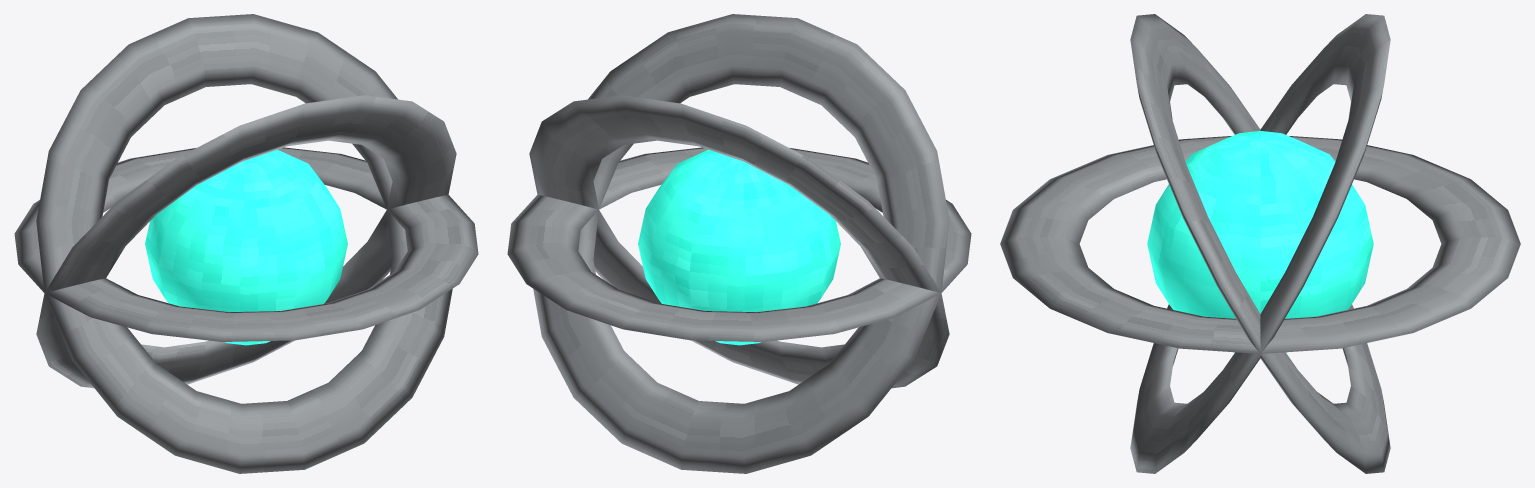
Rendered from kite-core.glb.
3 views of the same model, side by side, from view 1: azimuth 30°, elevation 25°; view 2: azimuth 150°, elevation 25°; view 3: azimuth 270°, elevation 25° (orthographic). The views are drawn at different scales.
Parts seen in each view (by area): view 1: gyroscope hoop (×3), Kite core; view 2: gyroscope hoop (×3), Kite core; view 3: gyroscope hoop (×3), Kite core.
Part boxes in pixels (left/top/right/bottom): gyroscope hoop (×3): left=14, top=14, right=478, bottom=473; Kite core: left=145, top=149, right=347, bottom=345; gyroscope hoop (×3): left=507, top=14, right=971, bottom=473; Kite core: left=638, top=149, right=840, bottom=345; gyroscope hoop (×3): left=1000, top=14, right=1520, bottom=473; Kite core: left=1147, top=131, right=1373, bottom=352.
Bounding box in the file's own units: 0.8732 × 0.7562 × 0.8732.
Materials: 2 (2 with a texture image).
